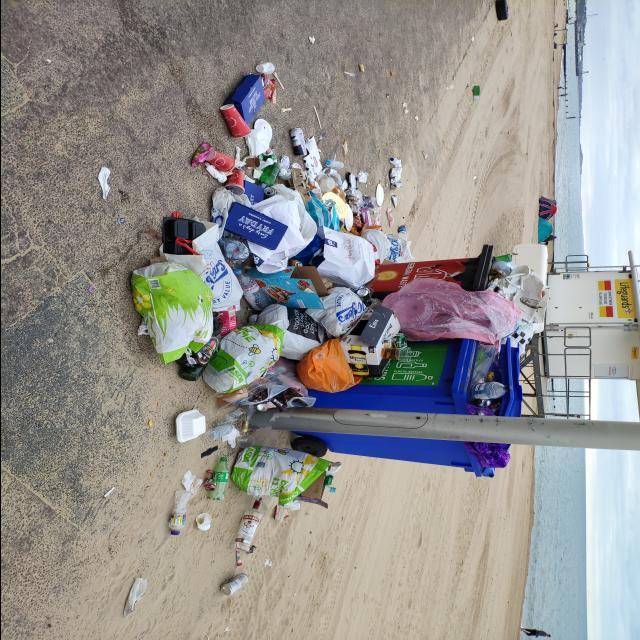lixo domiciliar: (380, 268, 530, 344), (209, 180, 315, 274), (280, 290, 372, 396), (130, 260, 210, 364), (160, 214, 240, 318), (234, 446, 342, 508), (202, 322, 284, 394), (308, 226, 378, 296), (219, 62, 279, 140), (304, 168, 358, 232), (232, 496, 264, 551), (246, 382, 312, 408), (162, 491, 195, 538), (241, 120, 274, 160), (205, 457, 232, 504), (212, 409, 248, 443), (194, 146, 234, 176), (468, 443, 512, 470), (238, 272, 266, 311), (120, 580, 150, 616), (386, 228, 414, 262), (470, 348, 498, 382), (175, 410, 202, 442), (215, 573, 248, 598), (358, 190, 379, 228), (467, 381, 509, 400), (488, 252, 518, 276), (256, 164, 282, 190), (289, 128, 311, 158), (94, 168, 112, 200), (221, 242, 247, 262), (388, 156, 404, 188), (225, 170, 245, 193), (181, 472, 200, 491), (274, 502, 290, 524), (470, 403, 494, 415), (234, 534, 242, 568), (322, 161, 342, 169)
